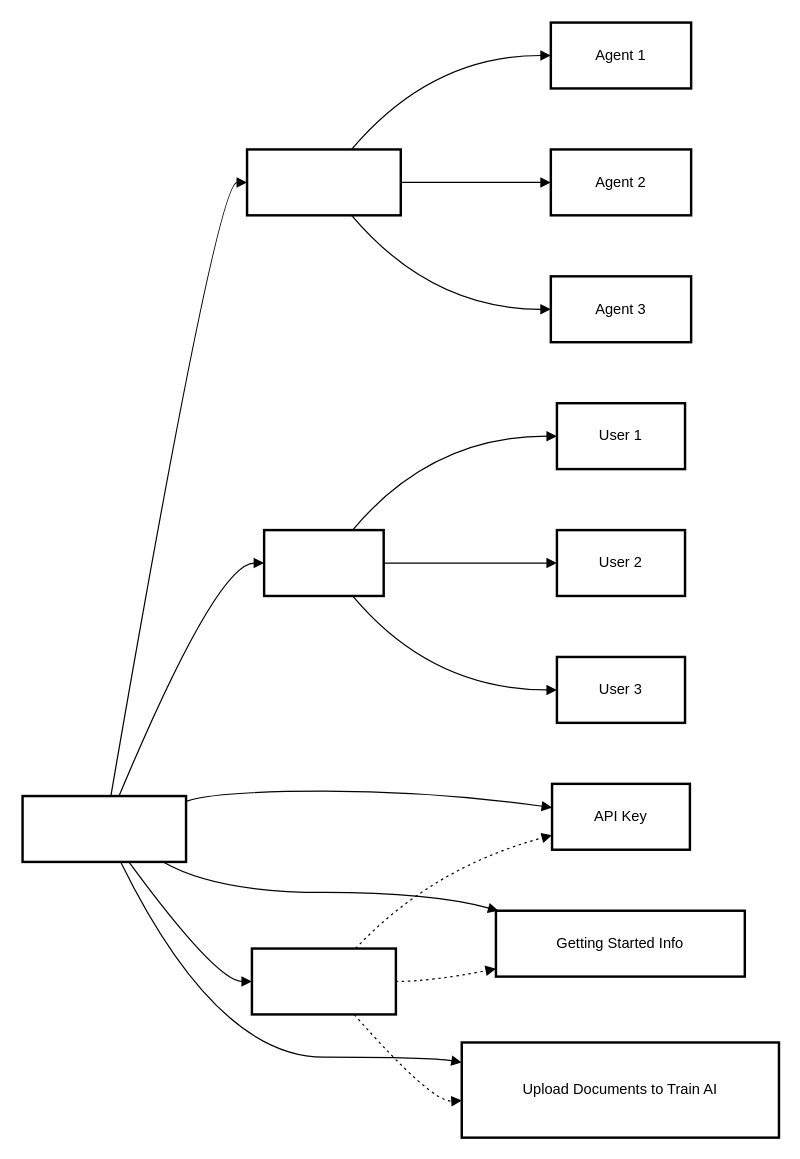
This 800x1159 diagram has some shape labels left out. The centre of each missing label's shape, as x and y in pixels:
"Account" goes at point 323,981.
"AI Agents" goes at point 323,182.
"Dashboard" goes at point 104,828.
"Users" goes at point 323,562.
